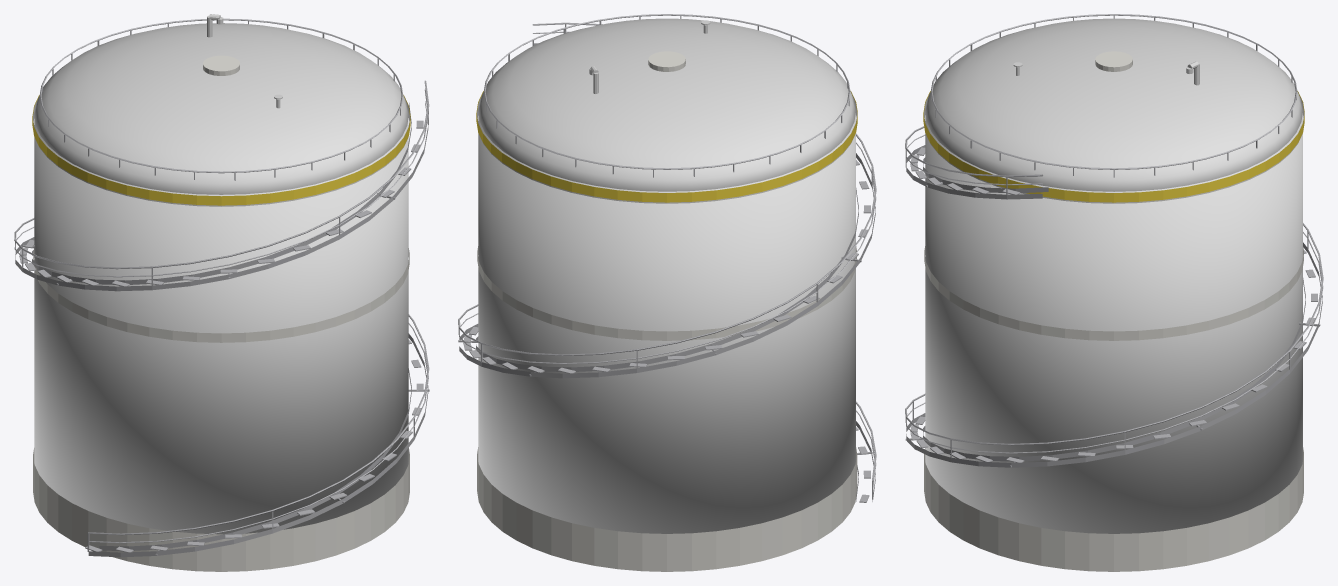
Rendered from tanque-detalhado.glb.
The picture shows the model from 3 angles, left to right: view 1: azimuth 30°, elevation 25°; view 2: azimuth 150°, elevation 25°; view 3: azimuth 270°, elevation 25°; orthographic projection.
Parts seen in each view (by area): view 1: Tank_1.001, Tank_1_Bands.001, Tank_1_Guard.001, Tank_1_TopRing.001; view 2: Tank_1.001, Tank_1_Bands.001, Tank_1_Guard.001, Tank_1_TopRing.001; view 3: Tank_1.001, Tank_1_Bands.001, Tank_1_Guard.001, Tank_1_TopRing.001.
Part boxes in pixels (box(x1,y1,x2,y2)): Tank_1.001: box(34, 14, 408, 534); Tank_1_Bands.001: box(33, 55, 410, 571); Tank_1_Guard.001: box(14, 18, 429, 557); Tank_1_TopRing.001: box(32, 95, 410, 205); Tank_1.001: box(478, 18, 855, 533); Tank_1_Bands.001: box(477, 51, 857, 571); Tank_1_Guard.001: box(458, 14, 876, 502); Tank_1_TopRing.001: box(476, 91, 857, 202); Tank_1.001: box(925, 18, 1302, 533); Tank_1_Bands.001: box(924, 51, 1304, 571); Tank_1_Guard.001: box(905, 14, 1323, 467); Tank_1_TopRing.001: box(923, 91, 1304, 202).
Size of the model in its own units: 19.96 by 23.39 by 19.96.
